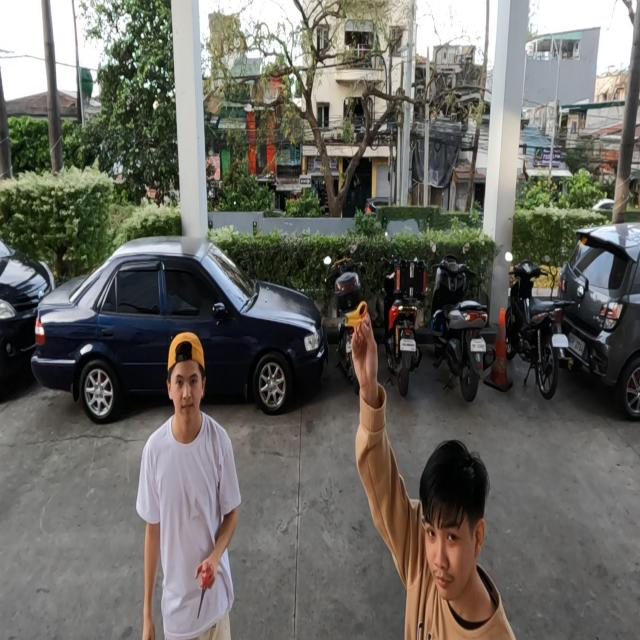scissor: (321, 302, 368, 338), (197, 562, 213, 620)
